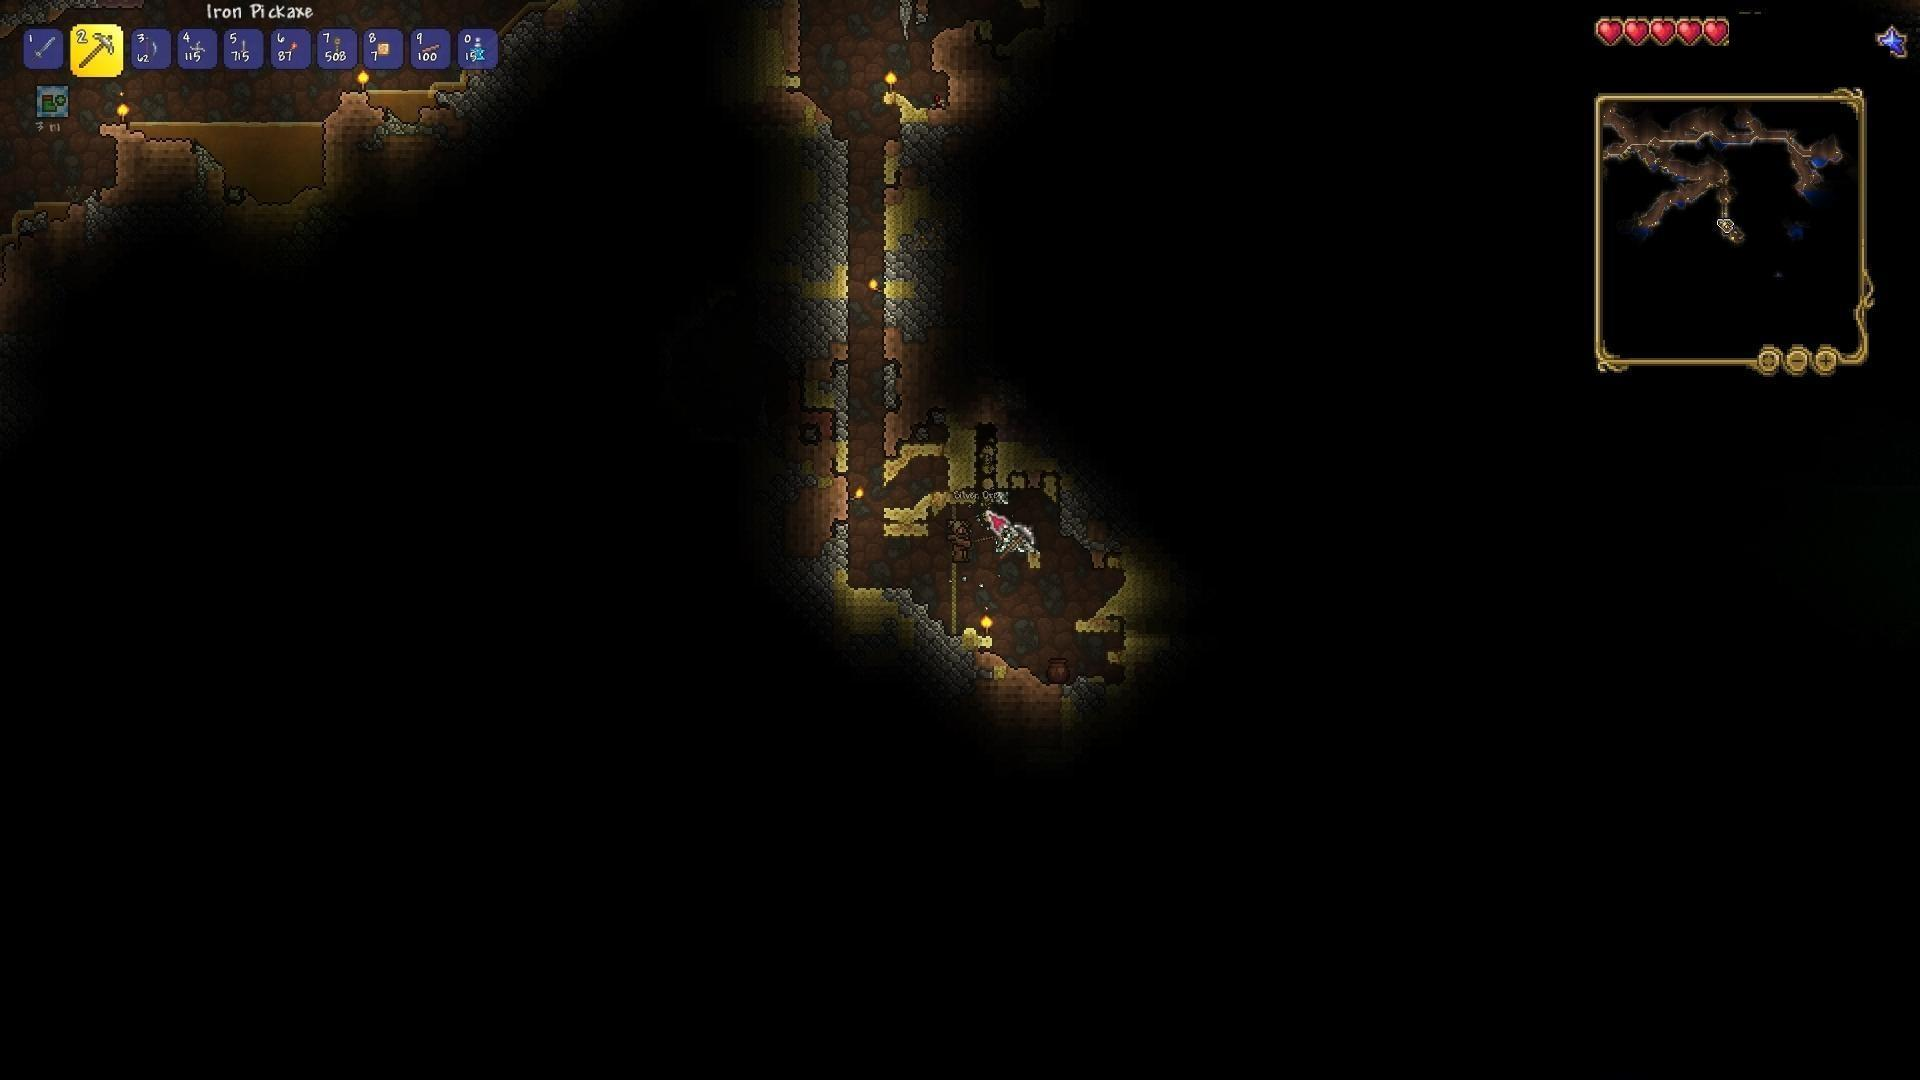heart: (1702, 17, 1733, 51), (1593, 16, 1626, 46), (1676, 15, 1704, 50), (1650, 16, 1676, 49), (1625, 15, 1651, 44)
liquid: (132, 108, 323, 140), (364, 79, 439, 108)
sand: (1068, 571, 1175, 663), (878, 439, 947, 546), (835, 563, 876, 608), (820, 260, 857, 307), (880, 202, 913, 253)
stone: (791, 131, 858, 243), (435, 58, 525, 135), (886, 255, 968, 334), (887, 587, 960, 671), (1058, 472, 1120, 563), (1060, 671, 1139, 741), (785, 306, 851, 361), (73, 189, 131, 251)
